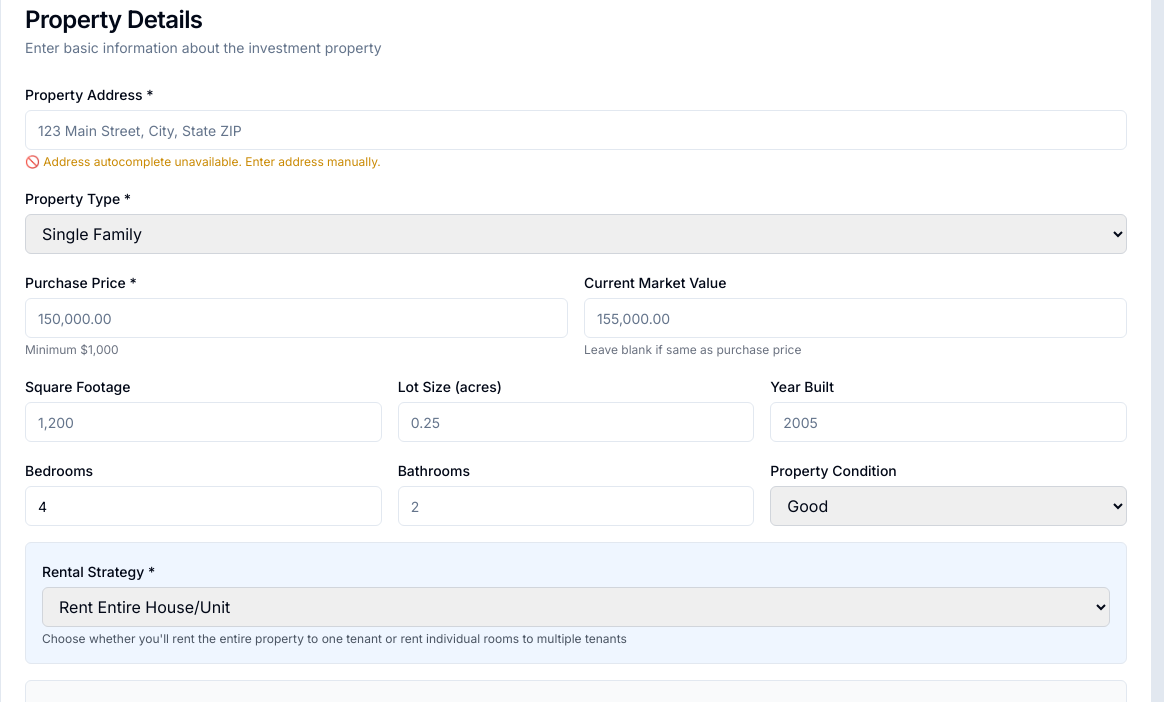
Test: Rental Strategy Feature › PropertyDetailsForm - Rental Strategy Selection › should calculate gross rent from room rates when using individual-rooms strategy
This screenshot has width=1164, height=702.
# Set rental strategy to individual-rooms
Select "Rent Individual Rooms" in the dropdown labelled "Rental Strategy *" at (576, 607), box top-left (42, 587), bottom-right (1110, 627)
(page scrolled)
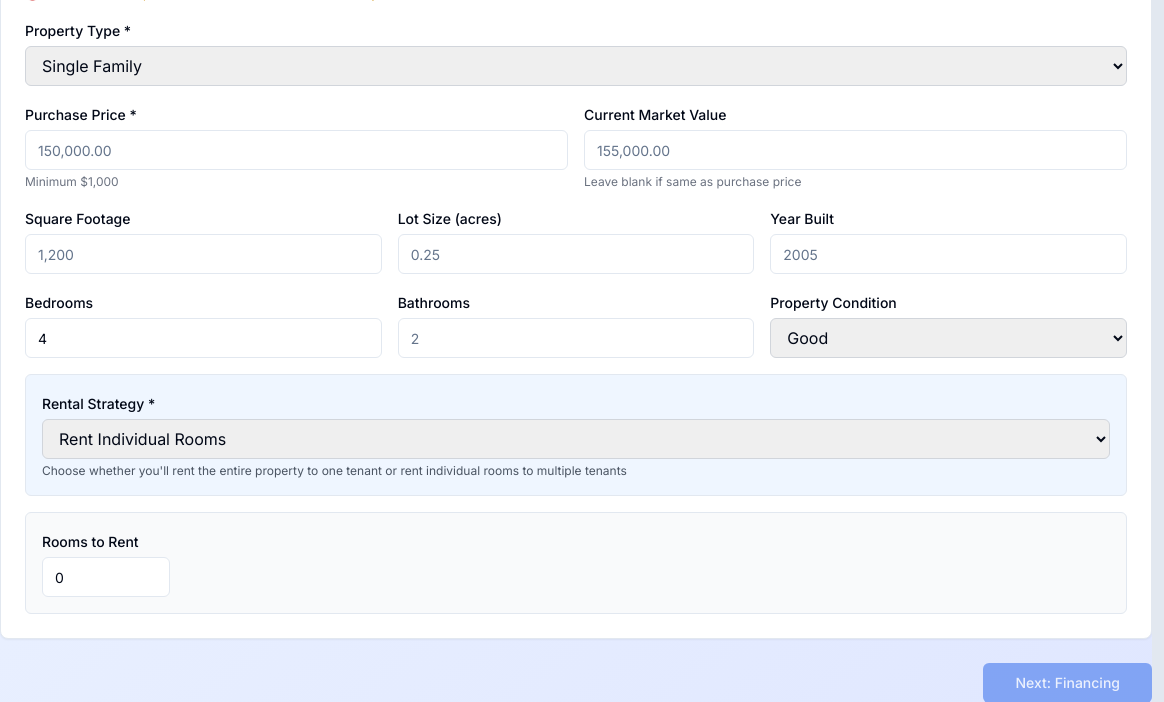
# Set number of rooms to rent
Replace the text in the number field labelled "Rooms to Rent" with "2" at (106, 577), box top-left (42, 557), bottom-right (170, 597)
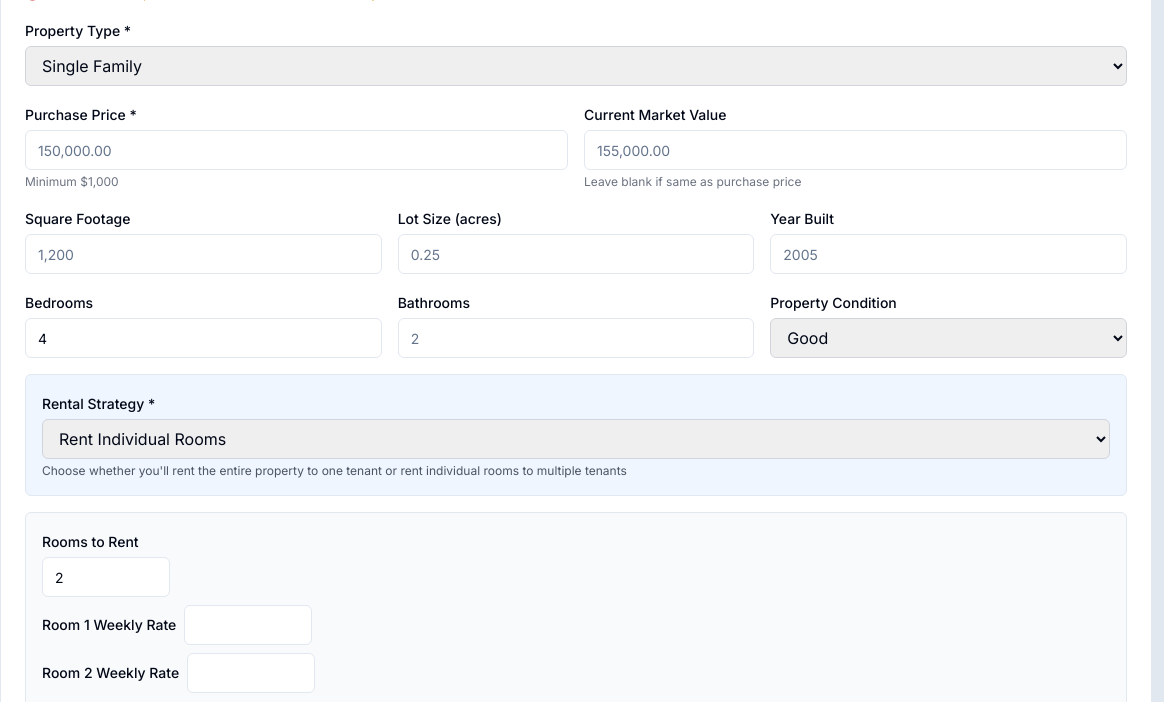
# Set weekly rates for each room
Type "100" into the field labelled "Room 1 Weekly Rate" at (248, 625), box top-left (184, 605), bottom-right (312, 645)
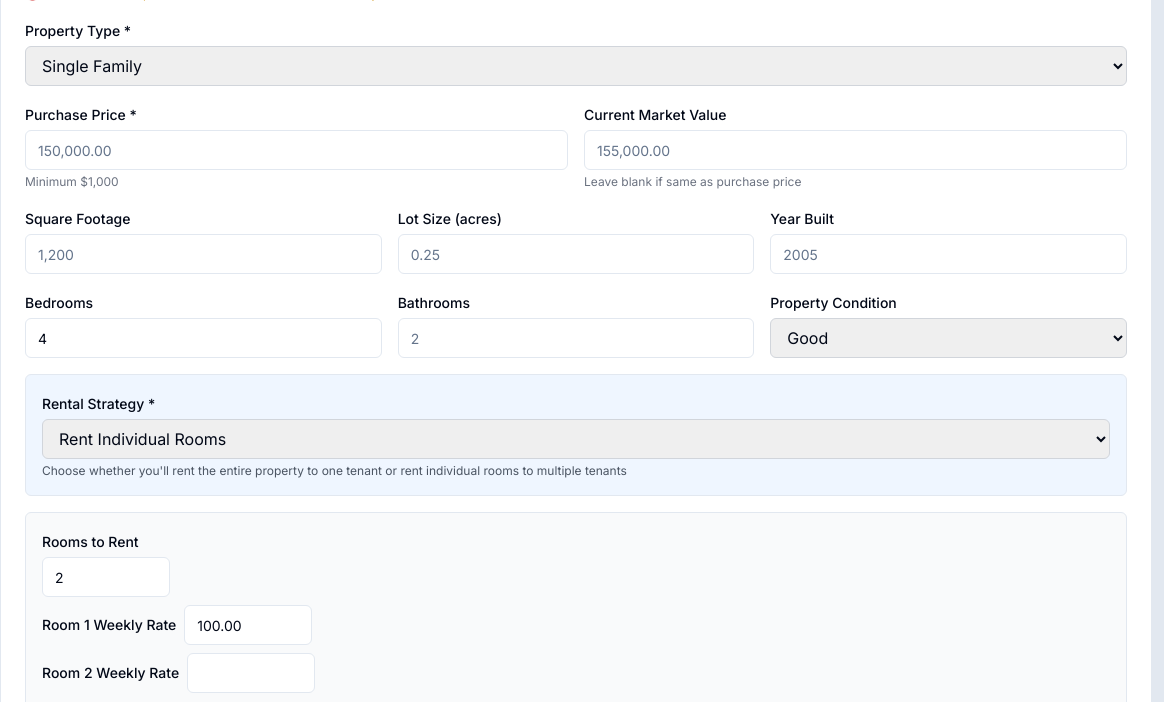
Type "150" into the field labelled "Room 2 Weekly Rate" at (251, 673), box top-left (187, 653), bottom-right (315, 693)
(page scrolled)
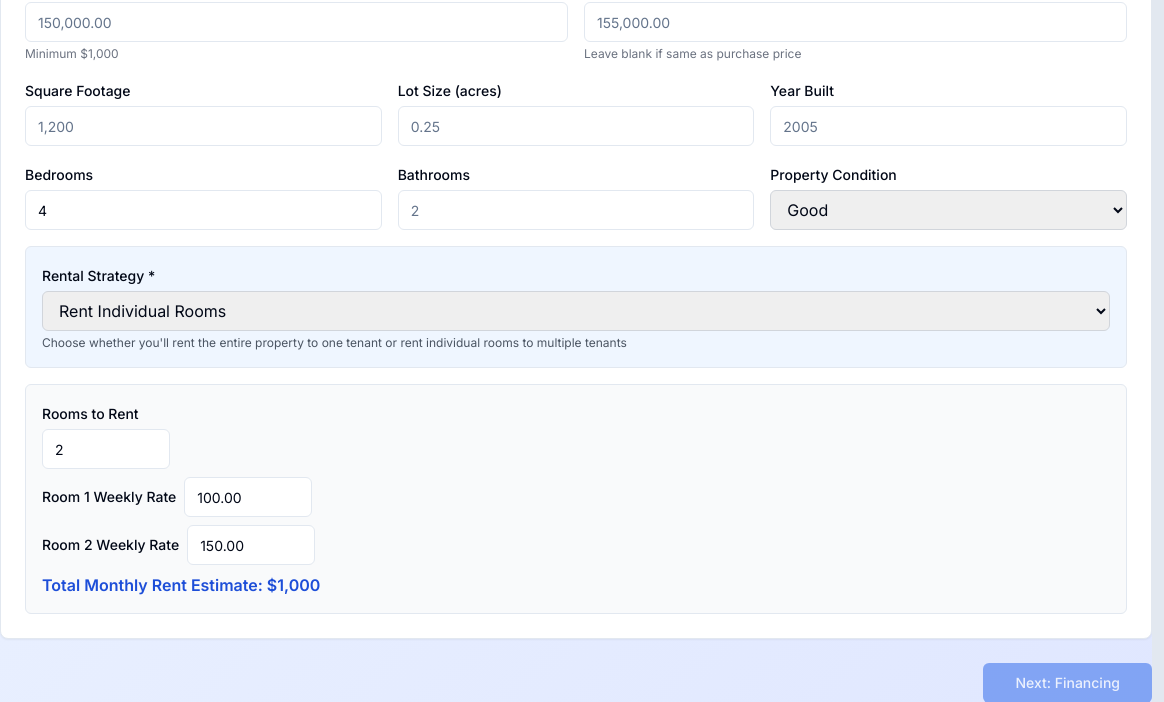
Expected: the text "Total Monthly Rent Estimate: $1,000" is shown, top-left (42, 575), bottom-right (320, 595)
